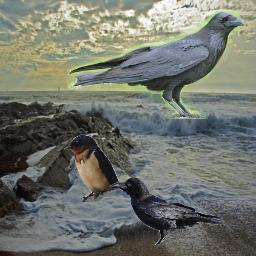Crow: (67, 11, 246, 119), (110, 177, 225, 248)
Swallow: (64, 134, 123, 202)
